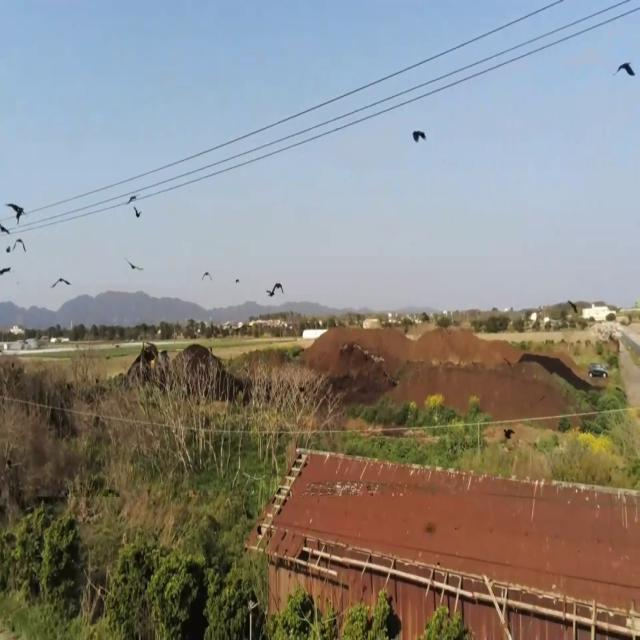bird: (616, 51, 636, 87), (7, 193, 25, 227), (266, 274, 284, 304), (52, 271, 70, 295), (10, 233, 26, 259), (411, 122, 426, 148), (126, 253, 140, 275), (131, 198, 142, 222), (0, 258, 10, 284), (202, 266, 212, 284)
